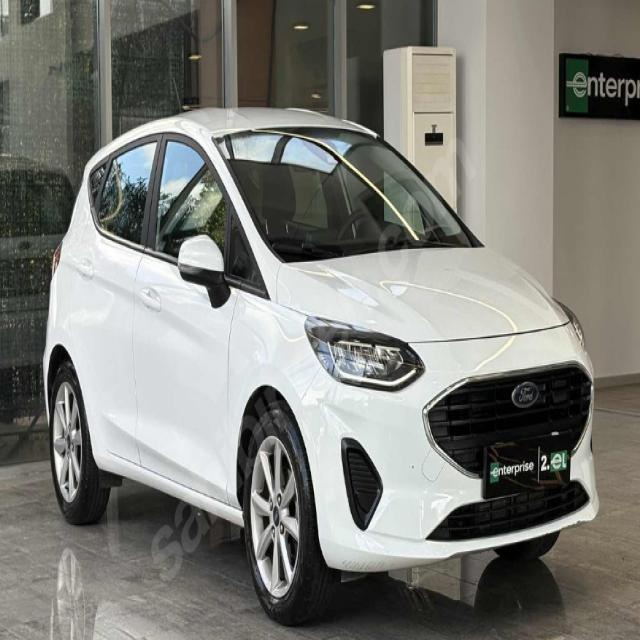ford: (510, 376, 541, 412)
